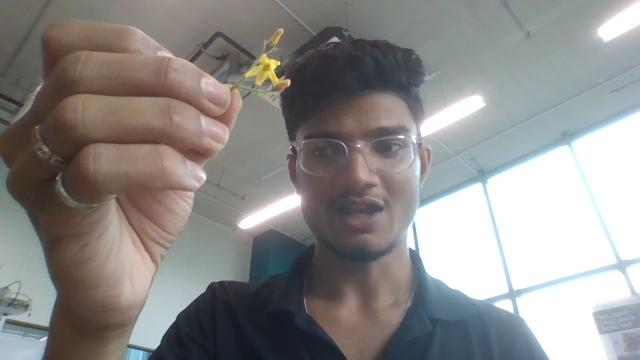Anthesis: (245, 53, 283, 87), (264, 28, 284, 54)
